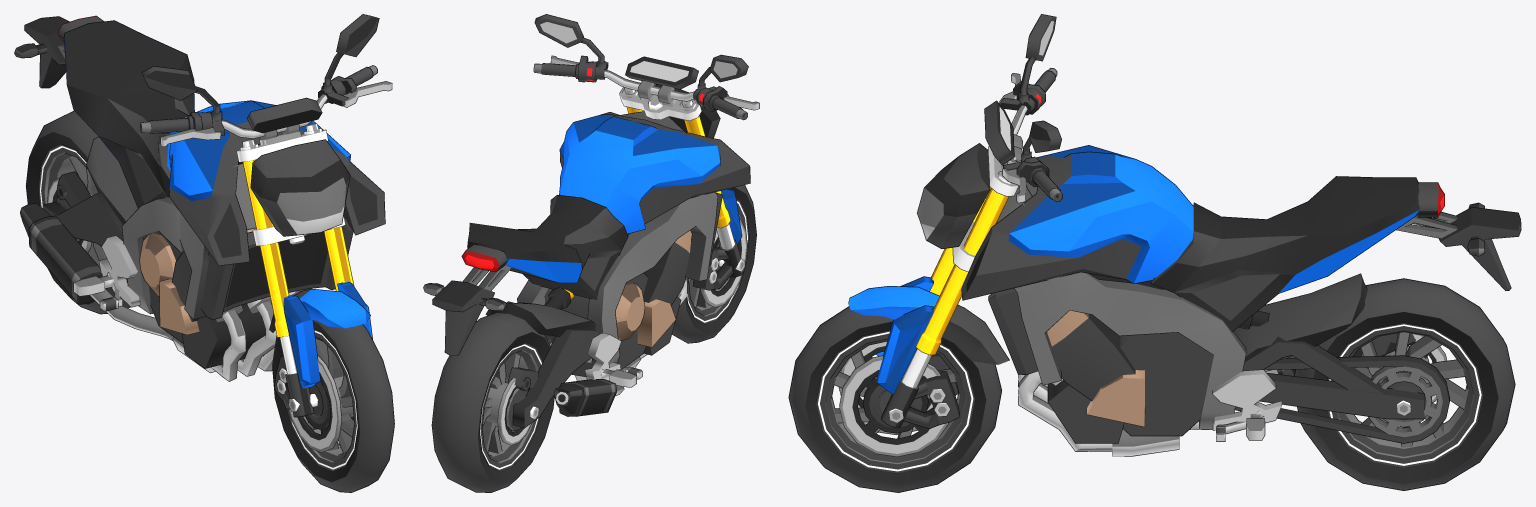
The model's file is Hero Xtreme.gltf.
3 renders of one model, left to right at view 1: azimuth 30°, elevation 25°; view 2: azimuth 150°, elevation 25°; view 3: azimuth 270°, elevation 25°, orthographic. The views are drawn at different scales.
Visible parts, largest first — view 1: Body, Steer, Wheel Front_Bike_Mat_Default_0, Wheel Rear, Wheel Front_Bike_Mat_Darker_0, Wheel Front_Bike_Mat_Lighter_0, Wheel Front_Bike_Mat_Outline_0; view 2: Body, Wheel Rear, Steer, Wheel Front_Bike_Mat_Darker_0, Wheel Front_Bike_Mat_Default_0, Wheel Front_Bike_Mat_Lighter_0, Wheel Front_Bike_Mat_Outline_0; view 3: Body, Steer, Wheel Rear, Wheel Front_Bike_Mat_Default_0, Wheel Front_Bike_Mat_Lighter_0, Wheel Front_Bike_Mat_Darker_0, Wheel Front_Bike_Mat_Outline_0.
Boxes of the visible parts, x1,y1,x2,y2 form: Body: (14,15,385,381); Steer: (140,14,392,417); Wheel Front_Bike_Mat_Default_0: (273,320,394,492); Wheel Rear: (26,111,130,314); Wheel Front_Bike_Mat_Darker_0: (272,321,360,482); Wheel Front_Bike_Mat_Lighter_0: (287,329,357,471); Wheel Front_Bike_Mat_Outline_0: (272,324,394,492); Body: (423,111,750,428); Wheel Rear: (431,312,554,492); Steer: (533,14,759,290); Wheel Front_Bike_Mat_Darker_0: (685,187,756,333); Wheel Front_Bike_Mat_Default_0: (672,185,753,342); Wheel Front_Bike_Mat_Lighter_0: (686,199,748,324); Wheel Front_Bike_Mat_Outline_0: (672,185,756,343); Body: (961,145,1521,456); Steer: (848,14,1062,428); Wheel Rear: (1294,278,1515,490); Wheel Front_Bike_Mat_Default_0: (789,307,1001,492); Wheel Front_Bike_Mat_Lighter_0: (816,330,975,473); Wheel Front_Bike_Mat_Darker_0: (805,321,986,484); Wheel Front_Bike_Mat_Outline_0: (788,306,1001,492).
Bounding box in the file's own units: 0.8336 × 1.31 × 2.07.
18 materials, 14 textured.
